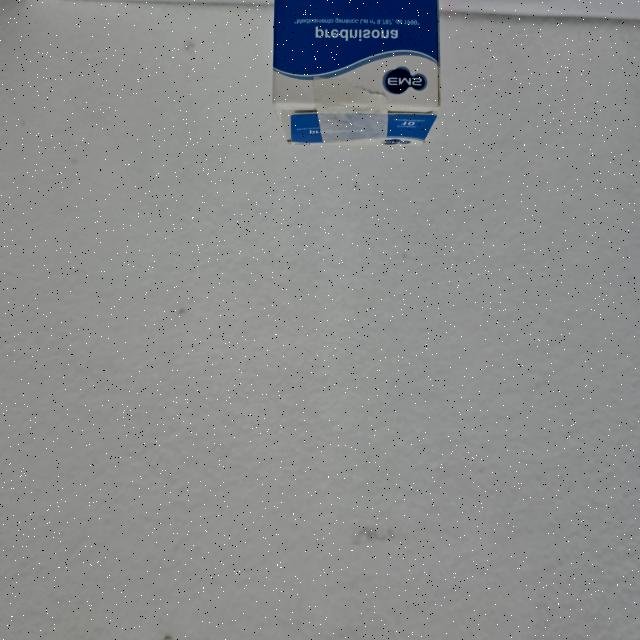prednisona: (269, 0, 444, 149)
